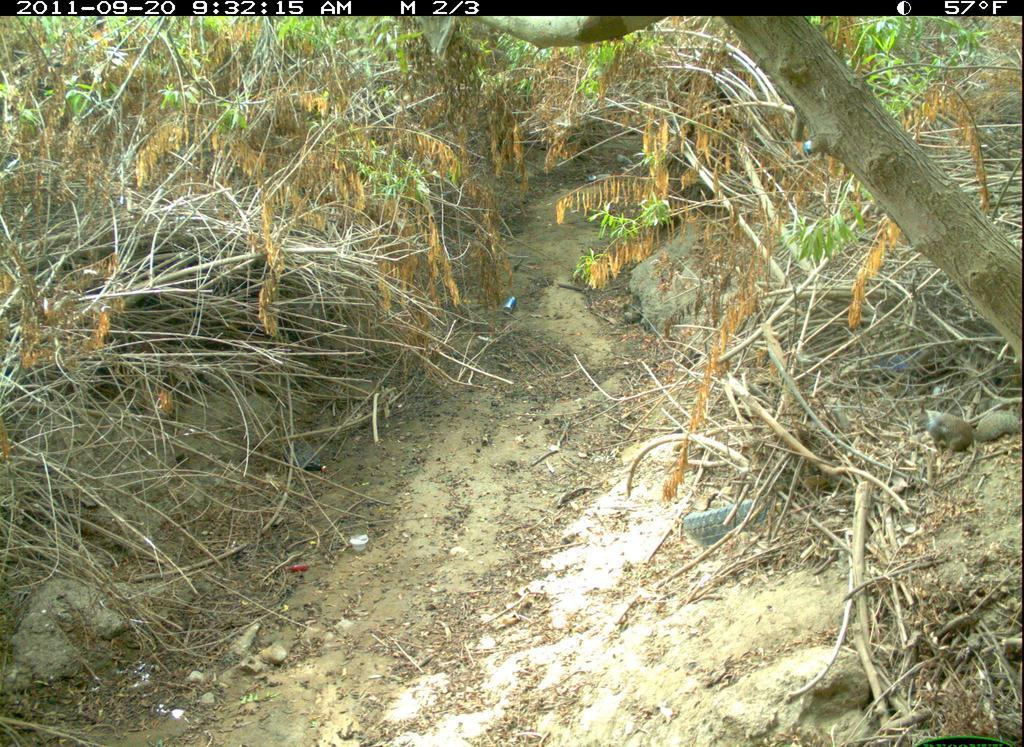squirrel: (894, 396, 1023, 469)
